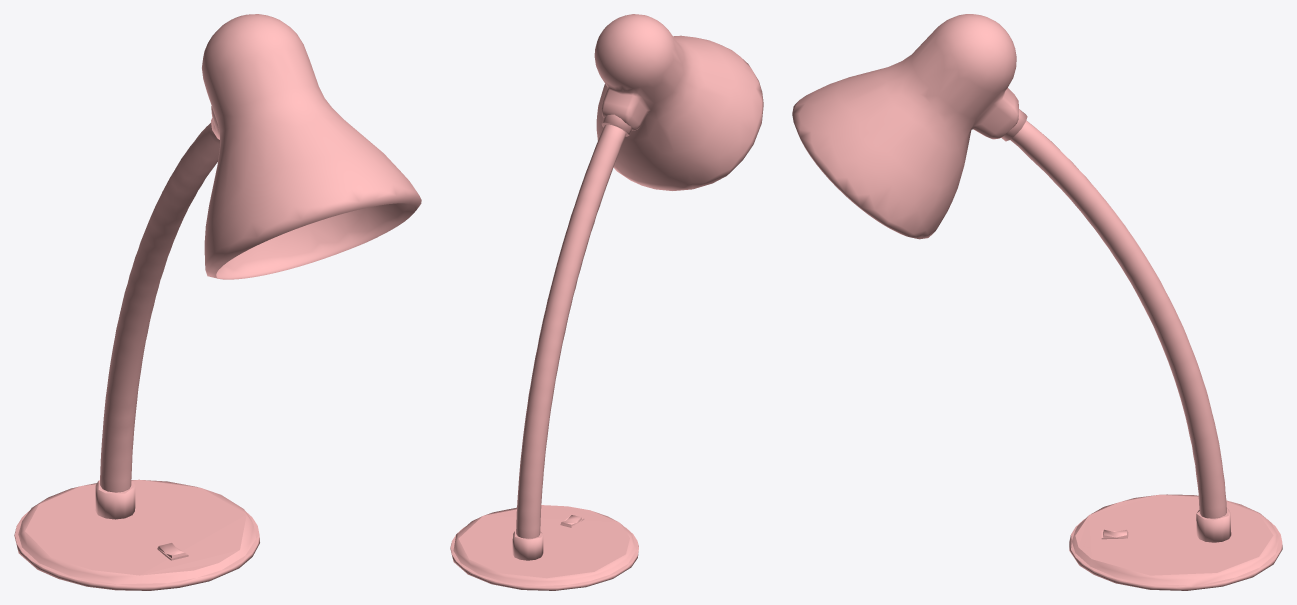
File: lamp.dae
3 views of the same model, side by side, from view 1: azimuth 30°, elevation 25°; view 2: azimuth 150°, elevation 25°; view 3: azimuth 270°, elevation 25° (orthographic). The views are drawn at different scales.
Parts seen in each view (by area): view 1: campana.001; view 2: campana.001; view 3: campana.001.
Part boxes in pixels (left/top/right/bottom): campana.001: left=14, top=14, right=421, bottom=590; campana.001: left=450, top=14, right=763, bottom=590; campana.001: left=792, top=14, right=1282, bottom=590.
Bounding box in the file's own units: 0.681 × 1.57 × 1.86.
